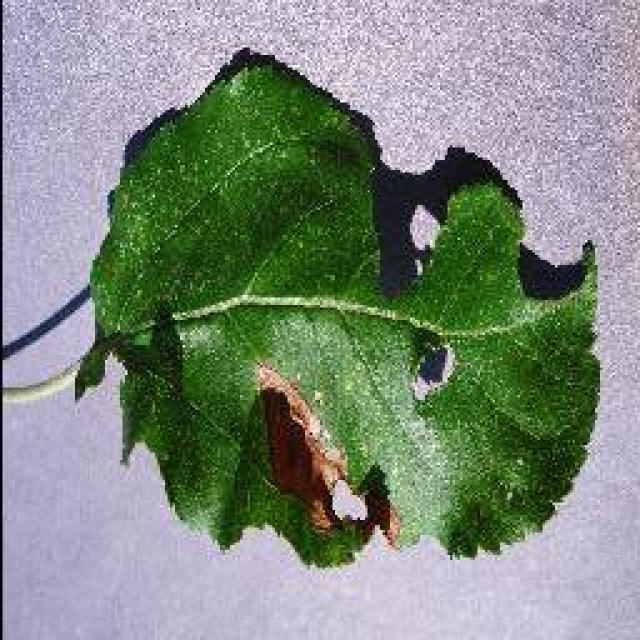Black_rot: (75, 45, 600, 567)
